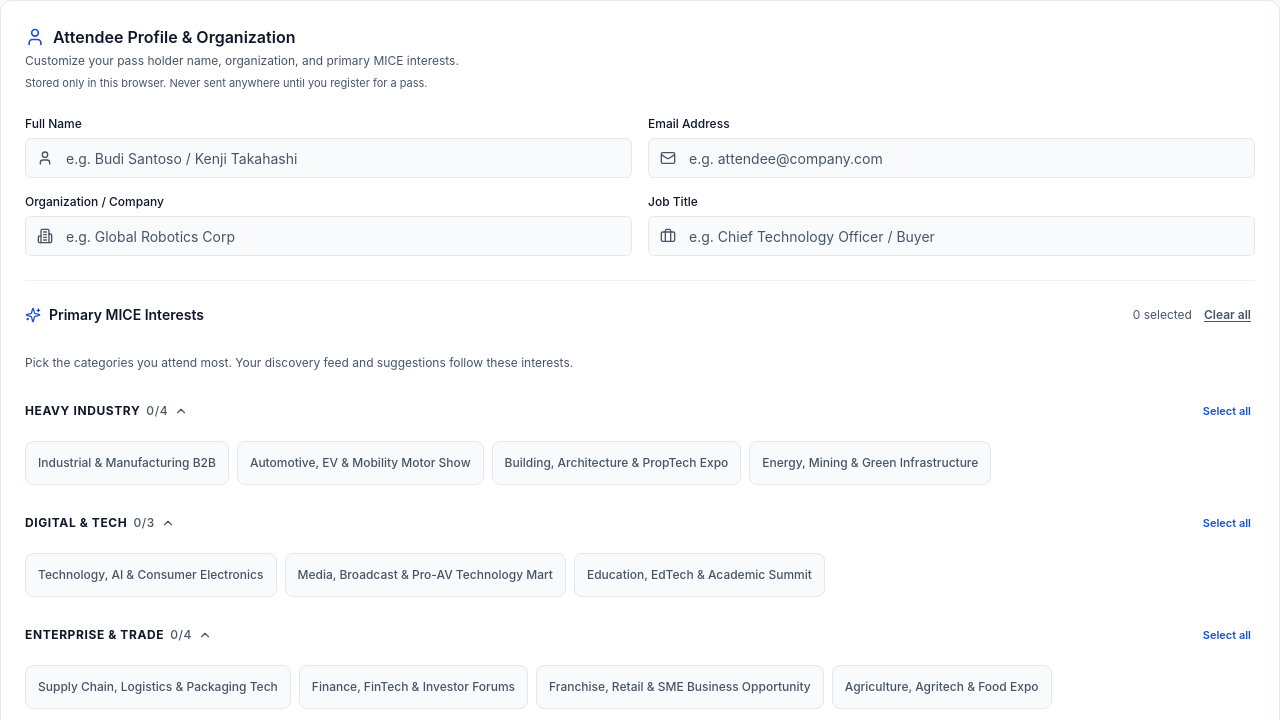
UI/UX Settings Suite Component Selectors › ProfileSettingsForm captures attendee details and MICE interest matrix
Type "Airi Suzuki" into the field with placeholder "e.g. Budi Santoso / Kenji Takahashi" at (328, 158), box [25,138,632,178]
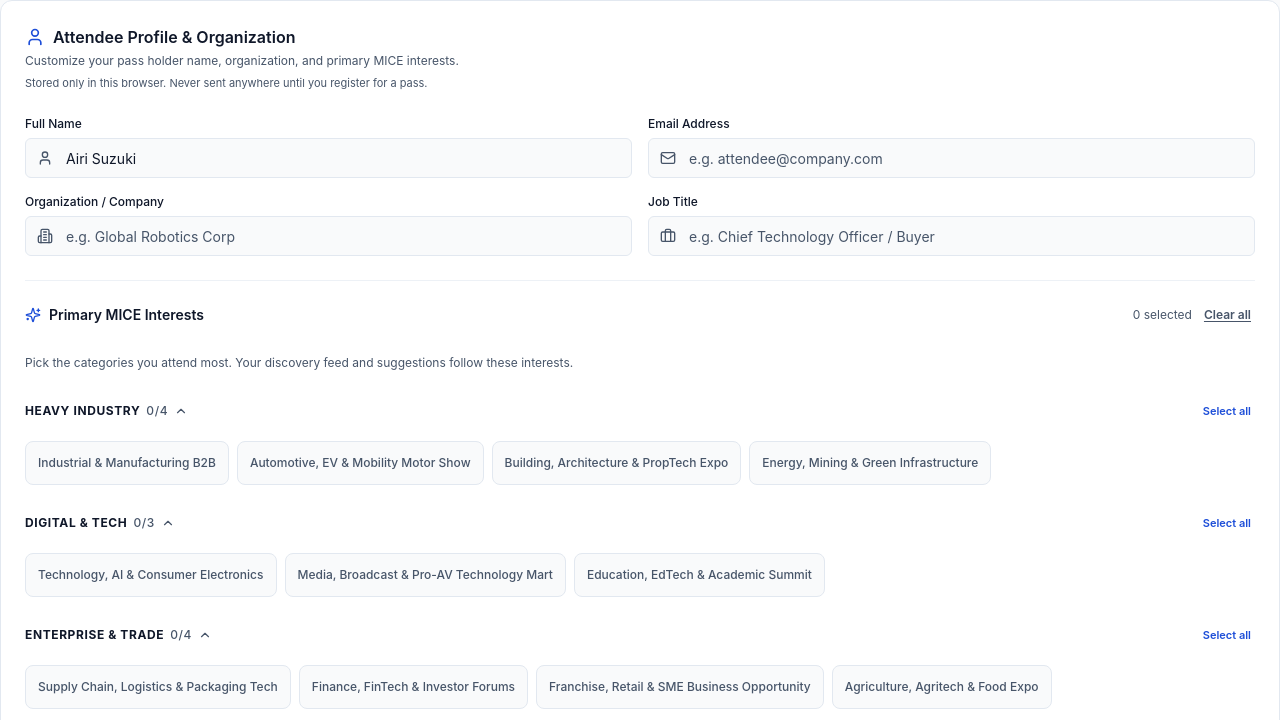
Type "airi@yokohama-expo.jp" into the field with placeholder "e.g. attendee@company.com" at (952, 158), box [648,138,1255,178]
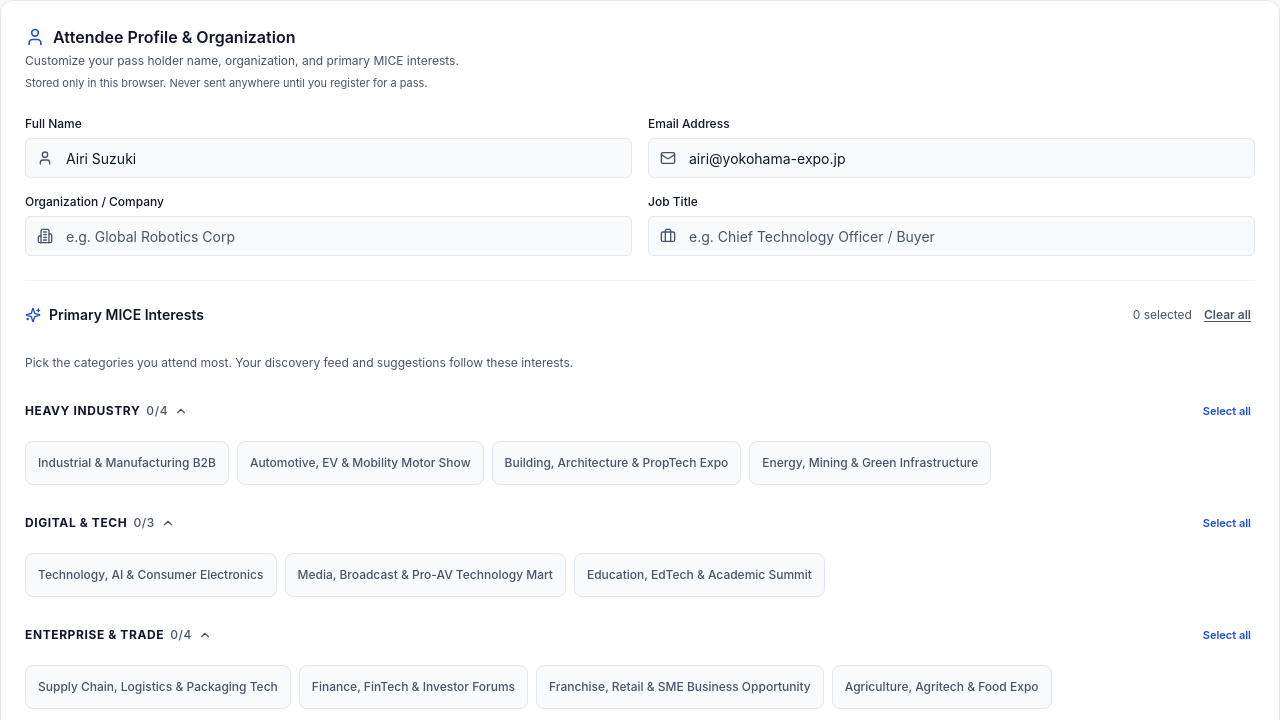
Type "Yokohama Exhibition Group" into the field with placeholder "e.g. Global Robotics Corp" at (328, 236), box [25,216,632,256]
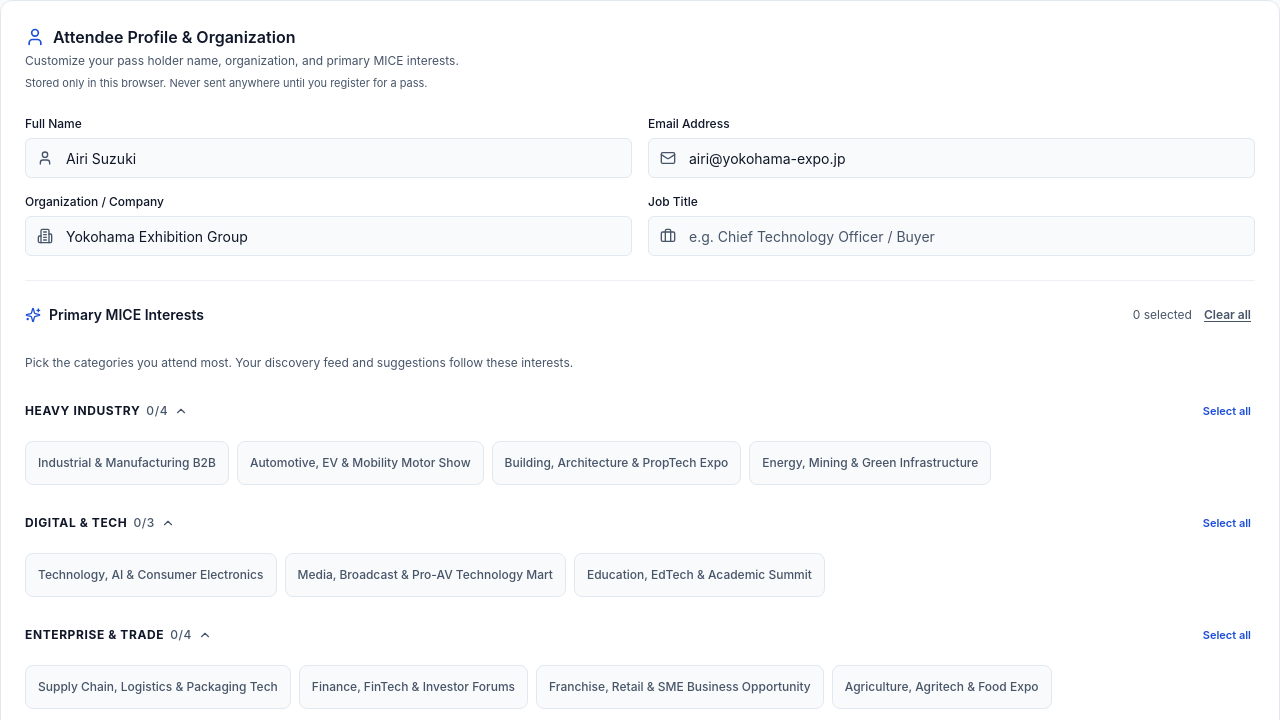
Select interest chip
Click the button "Technology, AI & Consumer Electronics" at (151, 575), box [25,553,276,597]
(page scrolled)
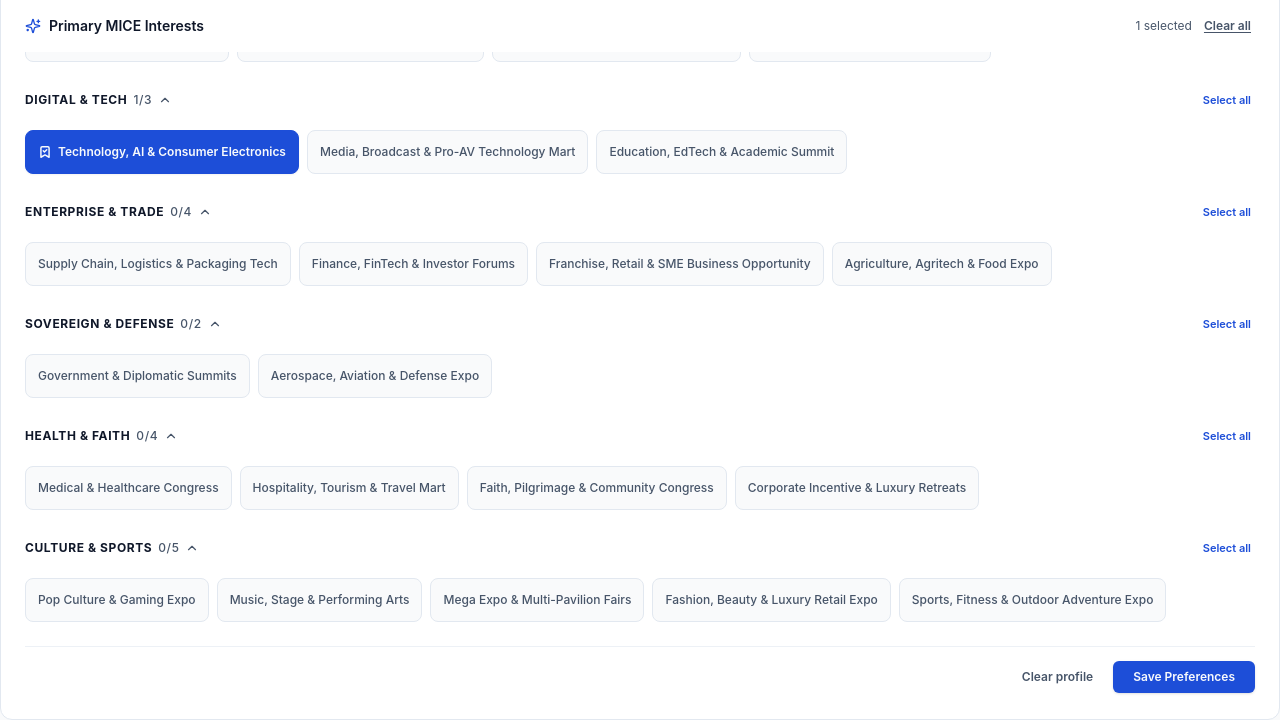
Click the button "Save Preferences" at (1184, 677), box [1113,661,1255,693]
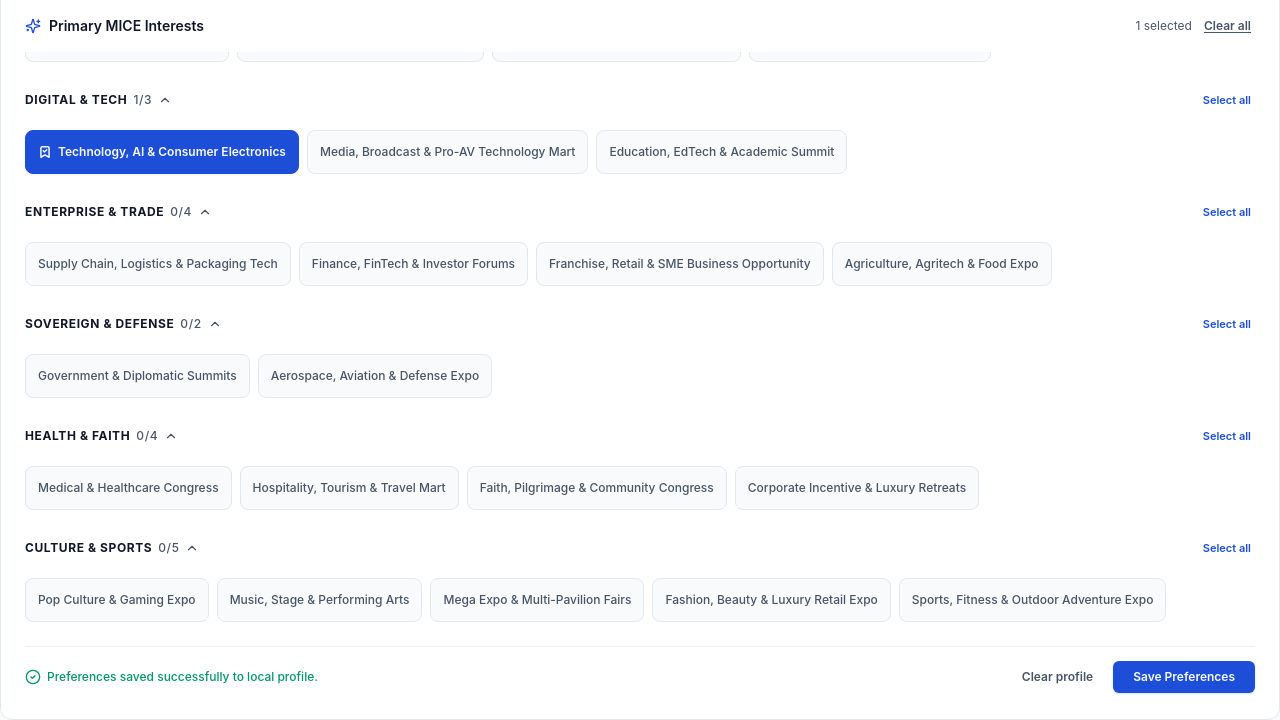
Now the text "Preferences saved successfully to local profile." is shown, box [47,669,318,685]
